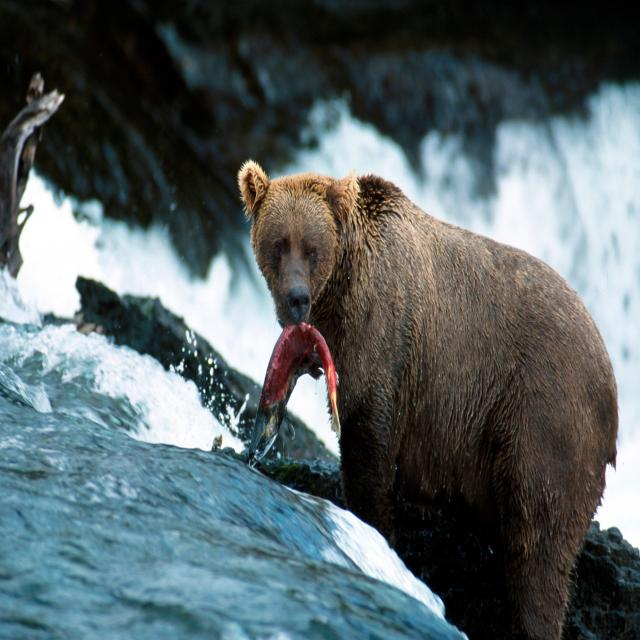Bear: (236, 162, 620, 640)
